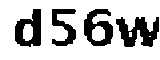5: (48, 5, 81, 53)
6: (78, 4, 116, 53)
d: (7, 5, 47, 51)
w: (114, 15, 160, 51)
